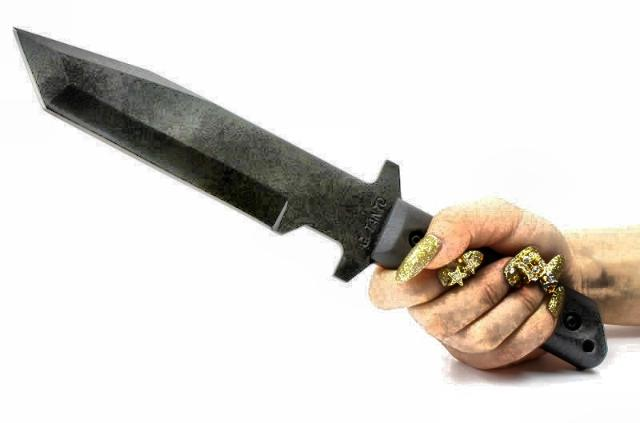knife: (0, 19, 506, 325)
